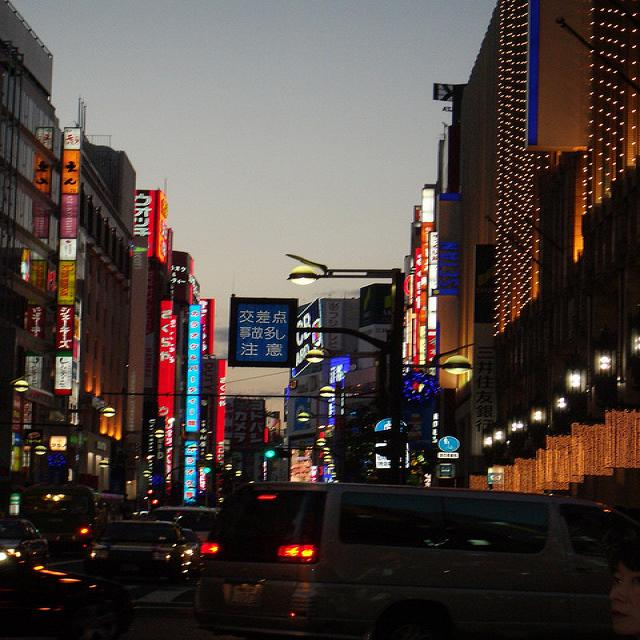Vehicle: (195, 482, 640, 639), (92, 518, 201, 584), (144, 503, 222, 545)
